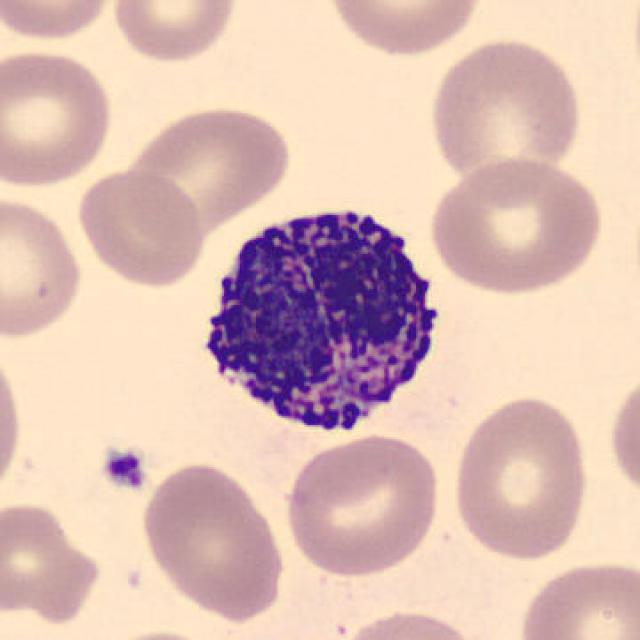Basophil: (183, 187, 462, 453)
Platelets: (96, 442, 148, 493)
RBC: (425, 153, 608, 298), (137, 457, 290, 624), (448, 390, 594, 562), (279, 430, 445, 580), (425, 34, 587, 185), (121, 101, 297, 229), (0, 43, 117, 190), (73, 166, 208, 289), (0, 498, 103, 630), (0, 190, 87, 342), (514, 555, 638, 640), (318, 0, 489, 60), (108, 0, 242, 65), (0, 0, 119, 44), (332, 606, 485, 640), (606, 368, 640, 508), (0, 340, 27, 504), (89, 626, 236, 640)
